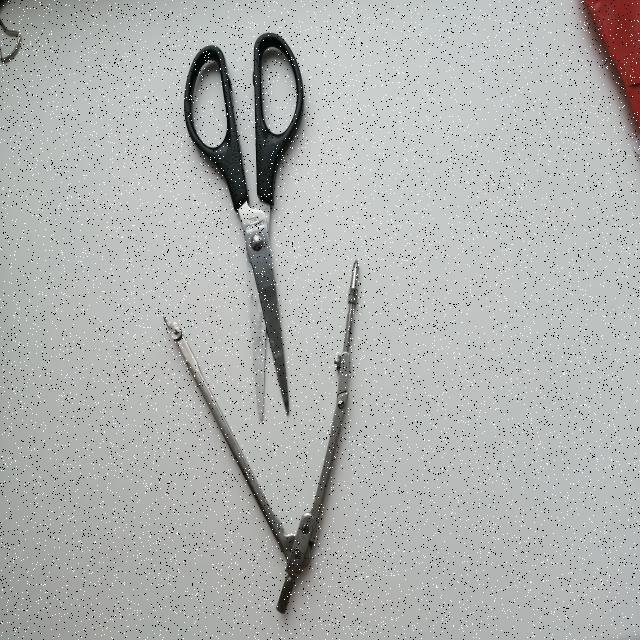scissors: (166, 24, 309, 453)
